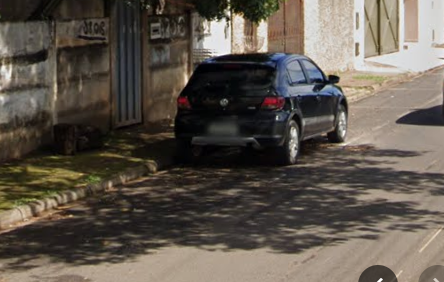car: (172, 50, 351, 166)
